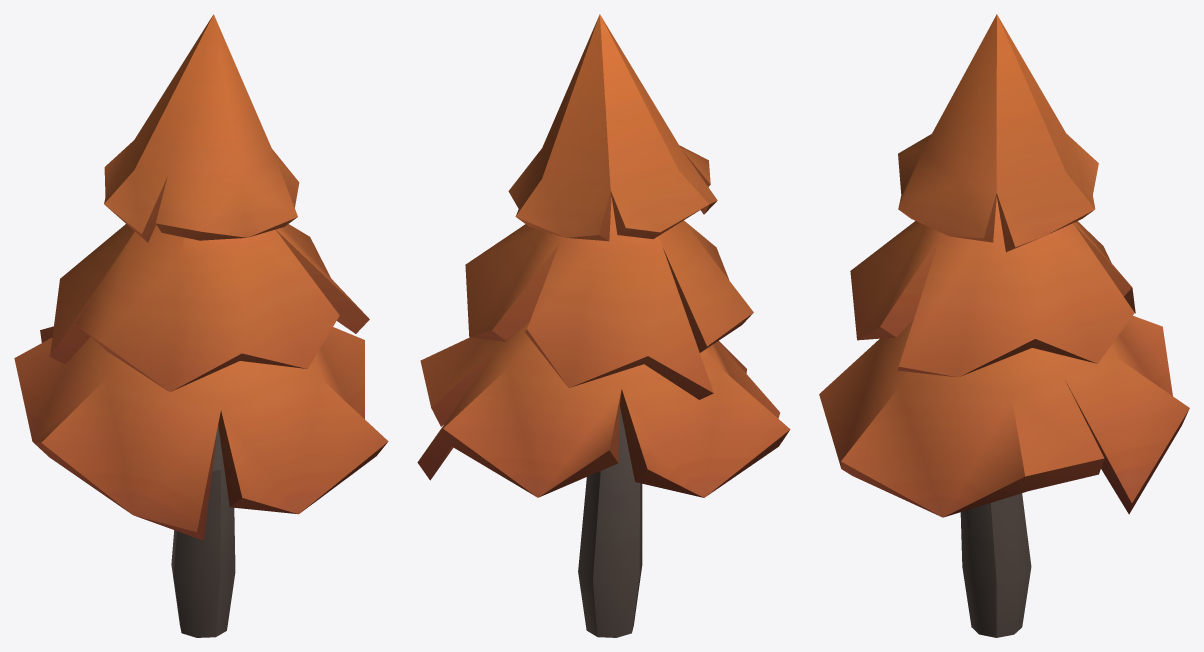
File: tree_pine_orange_small.glb
3 views of the same model, side by side, from view 1: azimuth 30°, elevation 25°; view 2: azimuth 150°, elevation 25°; view 3: azimuth 270°, elevation 25° (orthographic).
Parts seen in each view (by area): view 1: tree_pine_orange_small; view 2: tree_pine_orange_small; view 3: tree_pine_orange_small.
Boxes of the visible parts, left/top/right/bottom form: tree_pine_orange_small: left=14, top=14, right=388, bottom=637; tree_pine_orange_small: left=417, top=14, right=790, bottom=637; tree_pine_orange_small: left=819, top=14, right=1189, bottom=637.
Bounding box in the file's own units: 2.4 × 4.04 × 2.2.
Materials: 1 (1 with a texture image).
